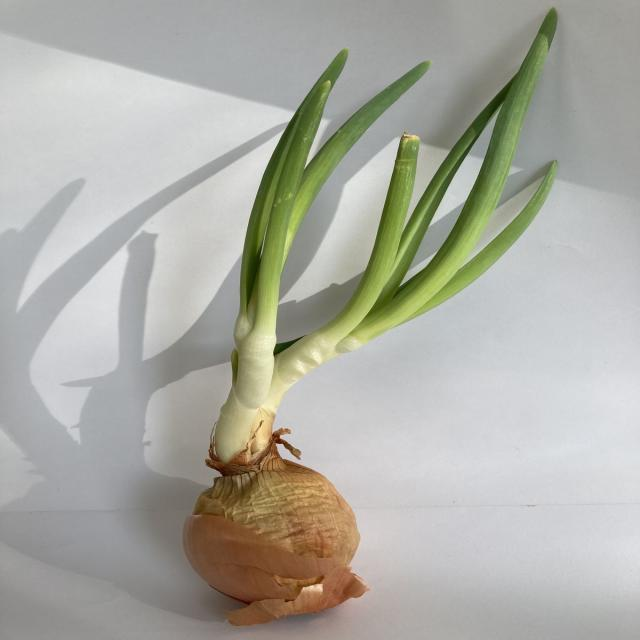sprouting: (162, 59, 570, 600)
